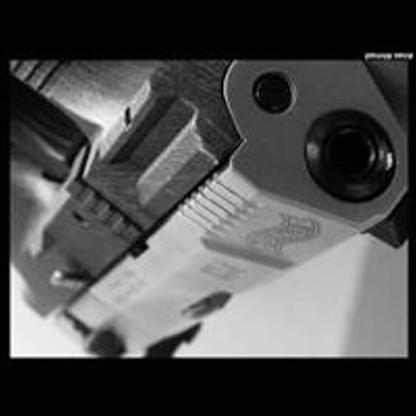weapon: (8, 65, 405, 356)
